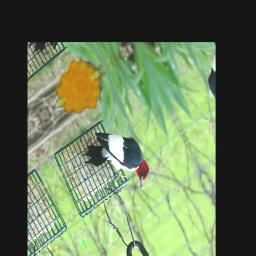Woodpecker: (76, 112, 155, 214)
